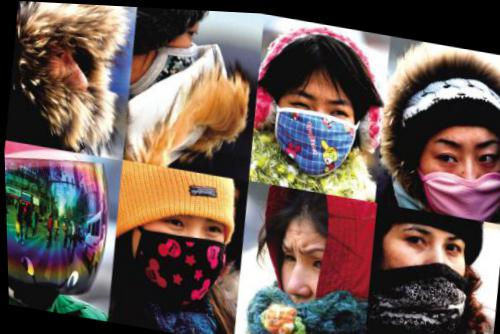NONE: (23, 37, 106, 133)
OK: (126, 199, 233, 309), (270, 83, 362, 177), (127, 10, 208, 107)
WRONG: (265, 234, 365, 334), (380, 211, 472, 311), (419, 118, 500, 220)
